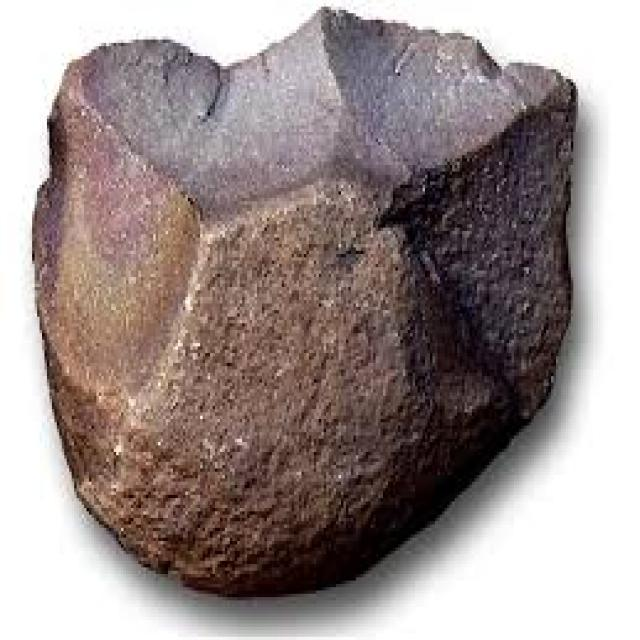Metamorphic: (30, 10, 573, 600)
